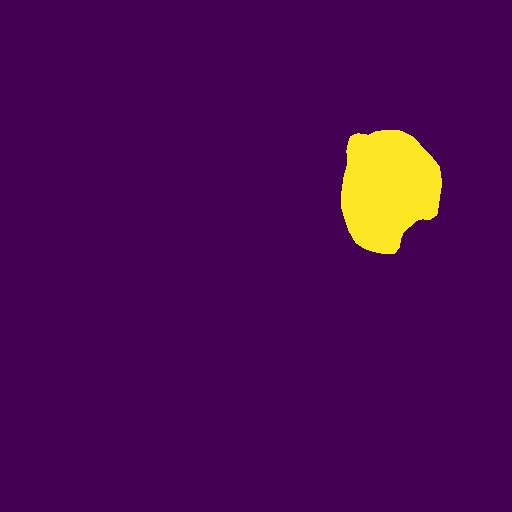Menigiomia_tumour: (341, 130, 442, 254)
